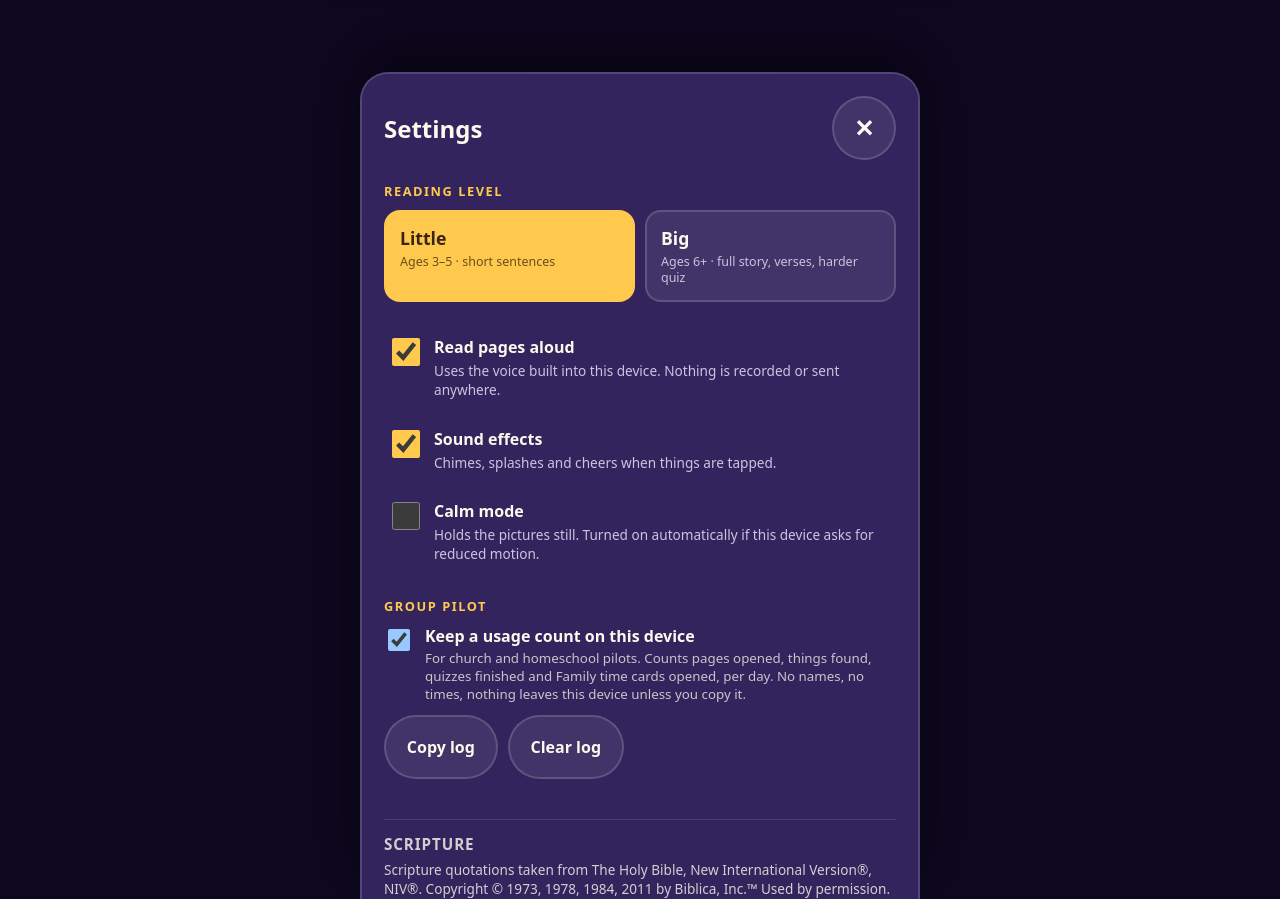
Test: Settings, group pilot without clipboard permission › falls back to a selectable box and still reports Copied
Click the button "Copy log" at (441, 746), box [384,714,498,778]
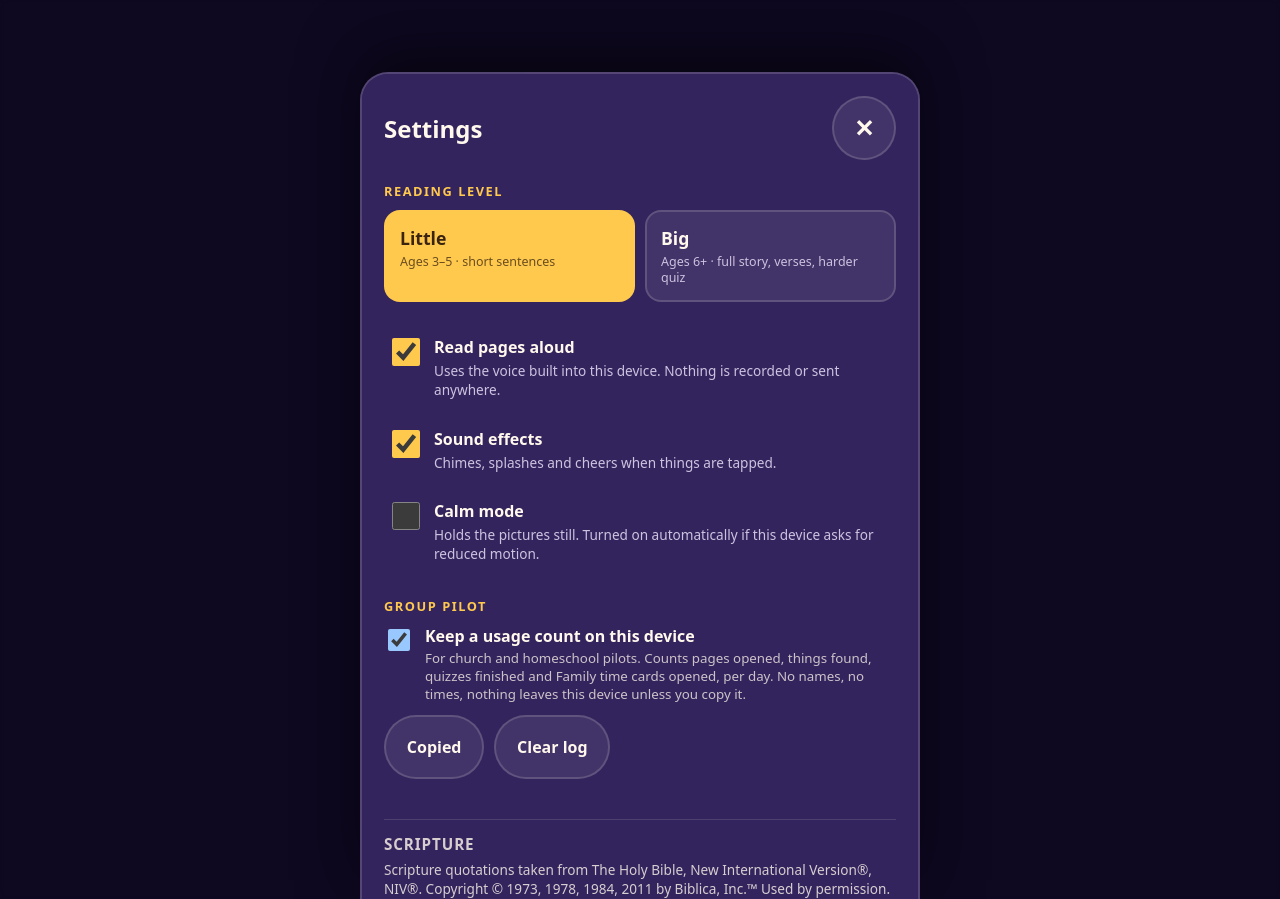
Expected: the button "Copied" is shown, [384,714,484,778]
